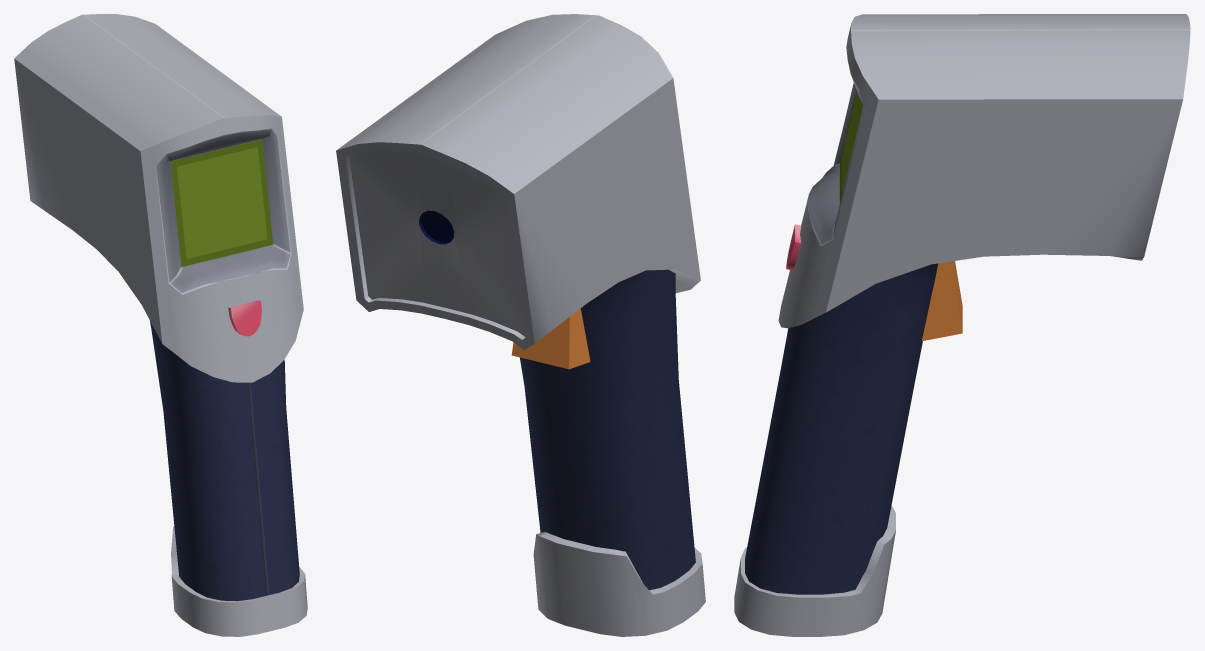
Rendered from Thermometer.fbx.
3 renders of one model, left to right at view 1: azimuth 30°, elevation 25°; view 2: azimuth 150°, elevation 25°; view 3: azimuth 270°, elevation 25°, orthographic. The views are drawn at different scales.
Parts seen in each view (by area): view 1: thermometer; view 2: thermometer; view 3: thermometer.
Part boxes in pixels (x1,y1,x2,y2): thermometer: (14,14,307,636); thermometer: (336,14,705,636); thermometer: (734,14,1190,636).
Size of the model in its own units: 0.0465 by 0.1503 by 0.1077.
Materials: 2 (2 with a texture image).
